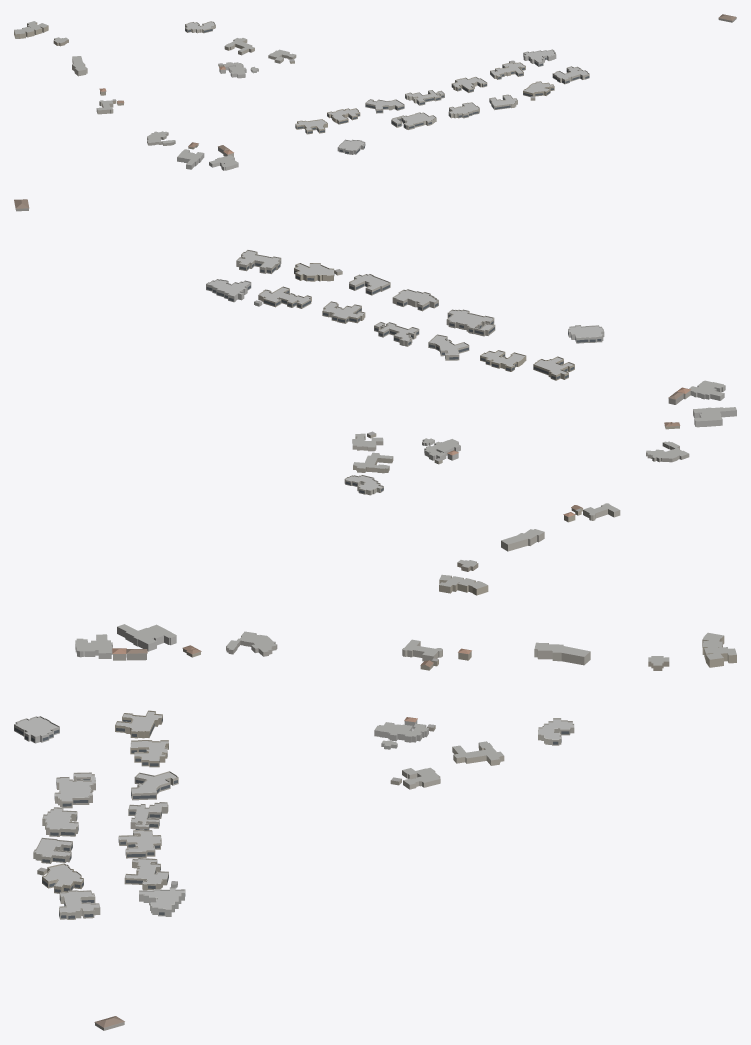
Rendered from buildings_r5_c0.glb.
The picture shows the model from 3 angles, top to bottom: view 1: azimuth 30°, elevation 25°; view 2: azimuth 150°, elevation 25°; view 3: azimuth 270°, elevation 25°; orthographic projection. The views are drawn at different scales.
Visible parts, largest first — view 1: buildings_r5_c0; view 2: buildings_r5_c0; view 3: buildings_r5_c0.
Part boxes in pixels (x1,y1,x2,y2): buildings_r5_c0: (14,14,736,170); buildings_r5_c0: (14,199,736,595); buildings_r5_c0: (14,624,736,1030).
Bounding box in the file's own units: 892 × 54.51 × 624.
